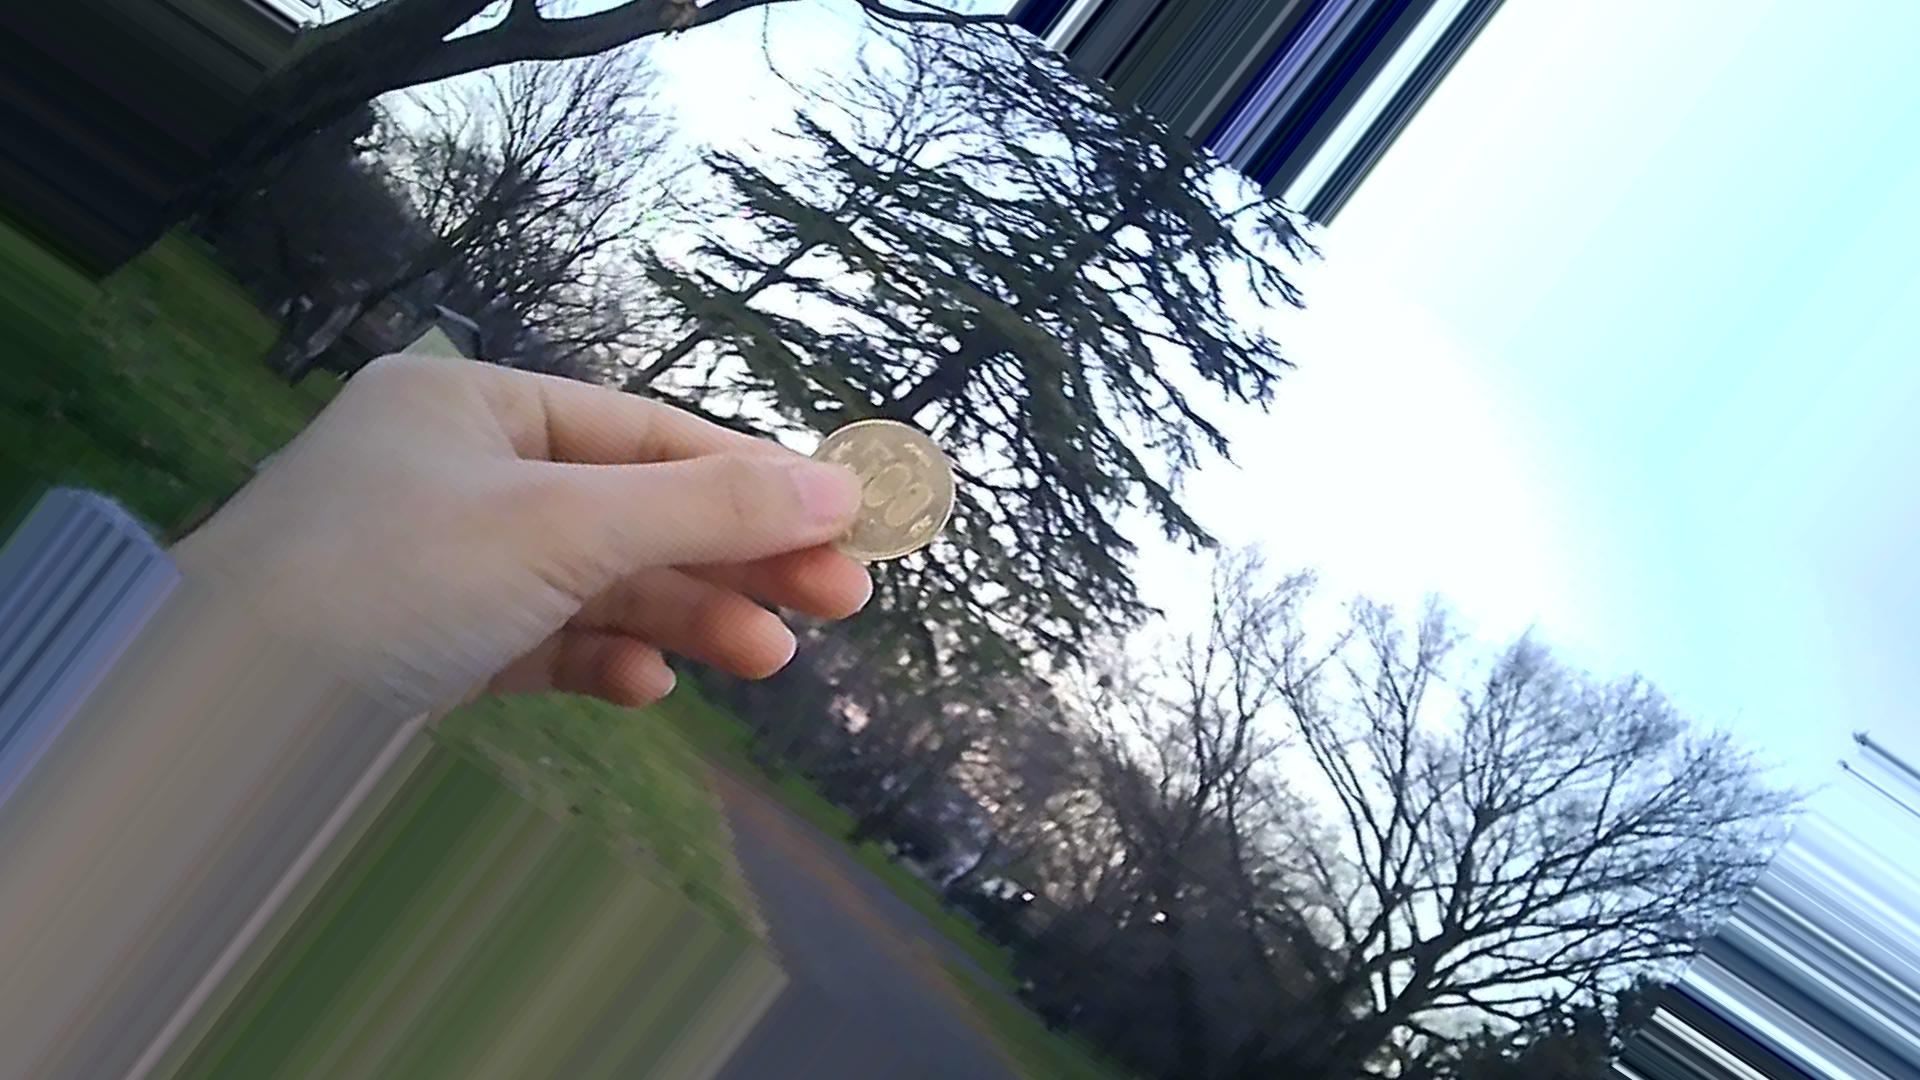500 Yen: (806, 415, 940, 562)
